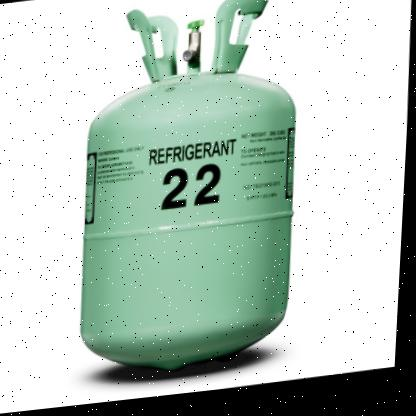gas-tank: (53, 0, 338, 396)
